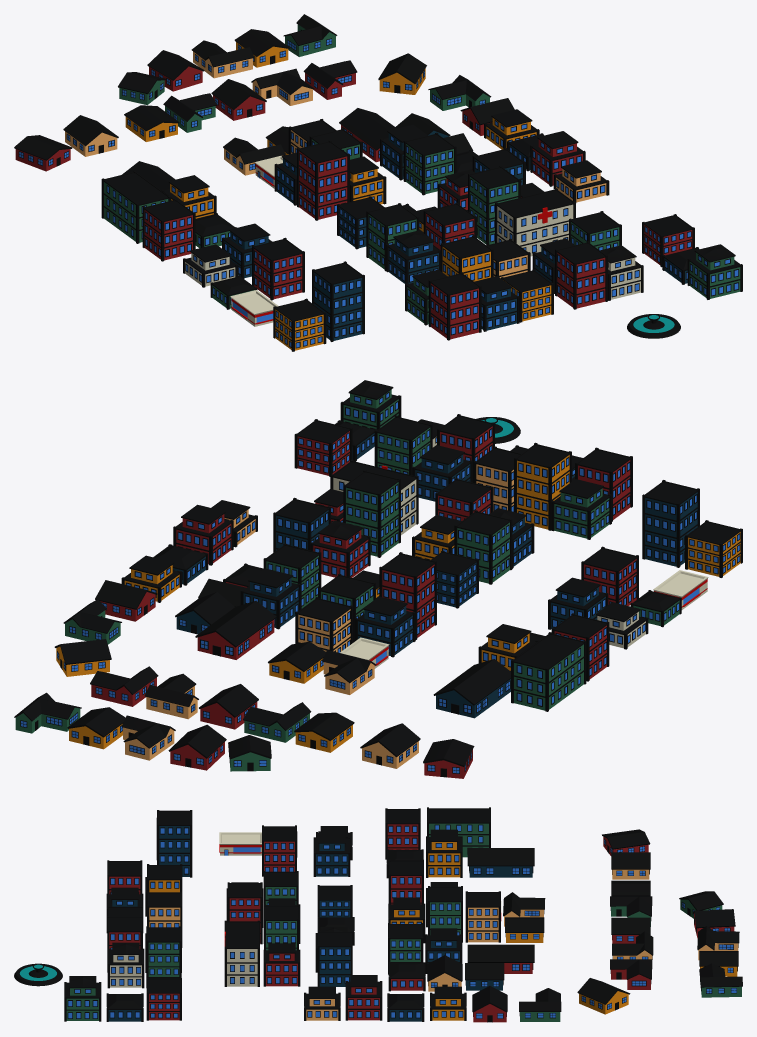
Rendered from buildings.obj.
3 renders of one model, top to bottom at view 1: azimuth 30°, elevation 25°; view 2: azimuth 150°, elevation 25°; view 3: azimuth 270°, elevation 25°, orthographic. The views are drawn at different scales.
Parts seen in each view (by area): view 1: hoptal, 4story, 4story.004, 3story.011, 3story.008, 3storylong, 3story.001, 3story.007, 3story, 4story.001, 2.5story.012, 3story.013 (+51 smaller); view 2: 3storylong, 4story.004, 4story.001, 4story.003, 4story, 3story.005, longhouse1, longhouse1.001, 2.5story.011, 3story.012, 3story.013, 4story.005 (+49 smaller); view 3: hoptal, 4story.004, 3storylong, longhouse1.001, 3story.004, 4story.005, 3story.003, 2.5story.013, 2.5story.014, 2.5story.009, 2.5story.007, 2.5story.012 (+48 smaller).
Part boxes in pixels (x1,y1,x2,y2): hoptal: [495, 188, 575, 256]; 4story: [297, 140, 349, 220]; 4story.004: [312, 261, 364, 341]; 3story.011: [428, 272, 481, 340]; 3story.008: [555, 241, 607, 309]; 3storylong: [101, 170, 170, 243]; 3story.001: [142, 199, 195, 261]; 3story.007: [252, 237, 304, 300]; 3story: [403, 132, 456, 195]; 4story.001: [468, 165, 520, 245]; 2.5story.012: [687, 244, 742, 299]; 3story.013: [273, 298, 326, 351]; 3storylong: [511, 632, 586, 711]; 4story.004: [642, 480, 699, 567]; 4story.001: [343, 470, 400, 557]; 4story.003: [514, 442, 571, 530]; 4story: [379, 552, 436, 639]; 3story.005: [454, 510, 512, 584]; longhouse1: [195, 601, 276, 659]; longhouse1.001: [433, 659, 510, 718]; 2.5story.011: [551, 479, 611, 539]; 3story.012: [294, 419, 352, 476]; 3story.013: [685, 520, 742, 577]; 4story.005: [374, 415, 432, 475]; hoptal: [224, 920, 259, 986]; 4story.004: [157, 810, 192, 877]; 3storylong: [427, 807, 490, 857]; longhouse1.001: [467, 848, 534, 877]; 3story.004: [317, 931, 352, 986]; 4story.005: [146, 926, 181, 987]; 3story.003: [465, 891, 500, 942]; 2.5story.013: [426, 829, 462, 877]; 2.5story.014: [345, 975, 382, 1020]; 2.5story.009: [107, 942, 144, 988]; 2.5story.007: [313, 831, 350, 876]; 2.5story.012: [64, 976, 101, 1021].
Bounding box in the file's own units: 207 × 28.9 × 350.
